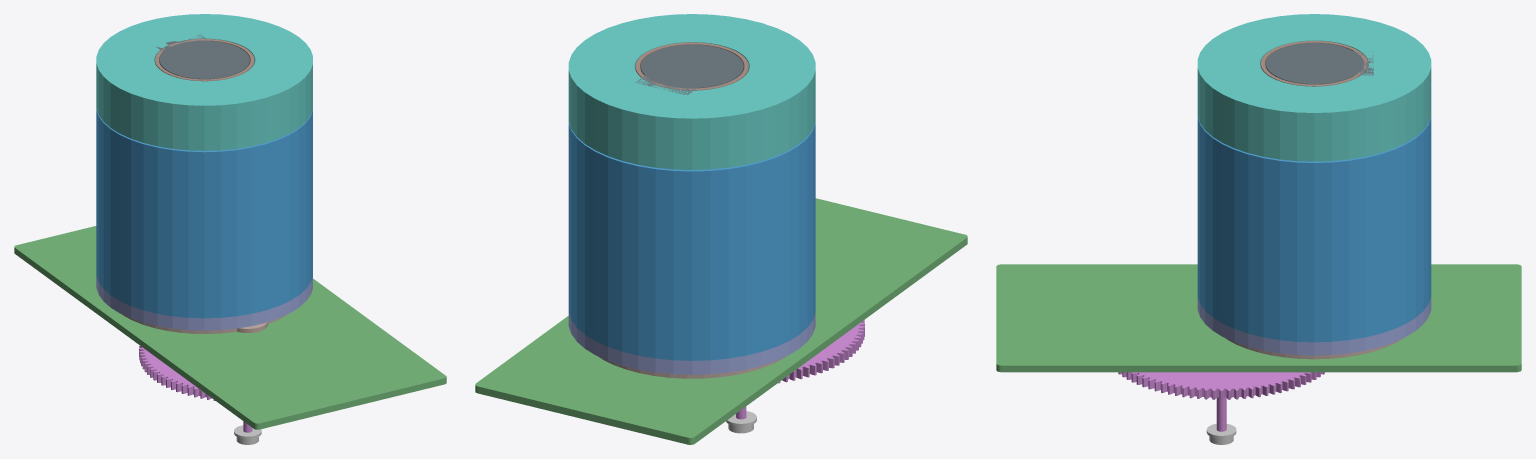
The model's file is knob-stack-v0.8.glb.
3 views of the same model, side by side, from view 1: azimuth 30°, elevation 25°; view 2: azimuth 150°, elevation 25°; view 3: azimuth 270°, elevation 25° (orthographic). The views are drawn at different scales.
Parts seen in each view (by area): view 1: knob_cap_skirt_tube, PCB, control_dial, TFT_glass, bottom_internal_ring, encoder_big_gear, screen_holder, base_cradle; view 2: knob_cap_skirt_tube, PCB, control_dial, TFT_glass, bottom_internal_ring, encoder_big_gear, screen_holder, base_cradle; view 3: knob_cap_skirt_tube, PCB, control_dial, encoder_big_gear, TFT_glass, bottom_internal_ring, screen_holder, base_cradle.
Boxes of the visible parts, x1,y1,x2,y2 form: knob_cap_skirt_tube: [96, 109, 312, 318]; PCB: [14, 226, 446, 429]; control_dial: [96, 14, 312, 150]; TFT_glass: [155, 34, 249, 79]; bottom_internal_ring: [96, 276, 312, 330]; encoder_big_gear: [139, 345, 215, 400]; screen_holder: [155, 39, 254, 81]; base_cradle: [122, 314, 286, 333]; knob_cap_skirt_tube: [568, 122, 815, 360]; PCB: [475, 198, 967, 444]; control_dial: [568, 14, 815, 169]; TFT_glass: [635, 44, 743, 94]; bottom_internal_ring: [568, 313, 815, 374]; encoder_big_gear: [778, 320, 864, 383]; screen_holder: [635, 42, 748, 90]; base_cradle: [598, 356, 785, 378]; knob_cap_skirt_tube: [1197, 116, 1431, 342]; PCB: [996, 264, 1521, 372]; control_dial: [1197, 14, 1431, 161]; encoder_big_gear: [1118, 372, 1324, 399]; TFT_glass: [1266, 43, 1373, 84]; bottom_internal_ring: [1197, 297, 1431, 355]; screen_holder: [1261, 41, 1367, 86]; base_cradle: [1226, 338, 1403, 359].
Size of the model in its own units: 0.049 by 0.085 by 0.1075.
